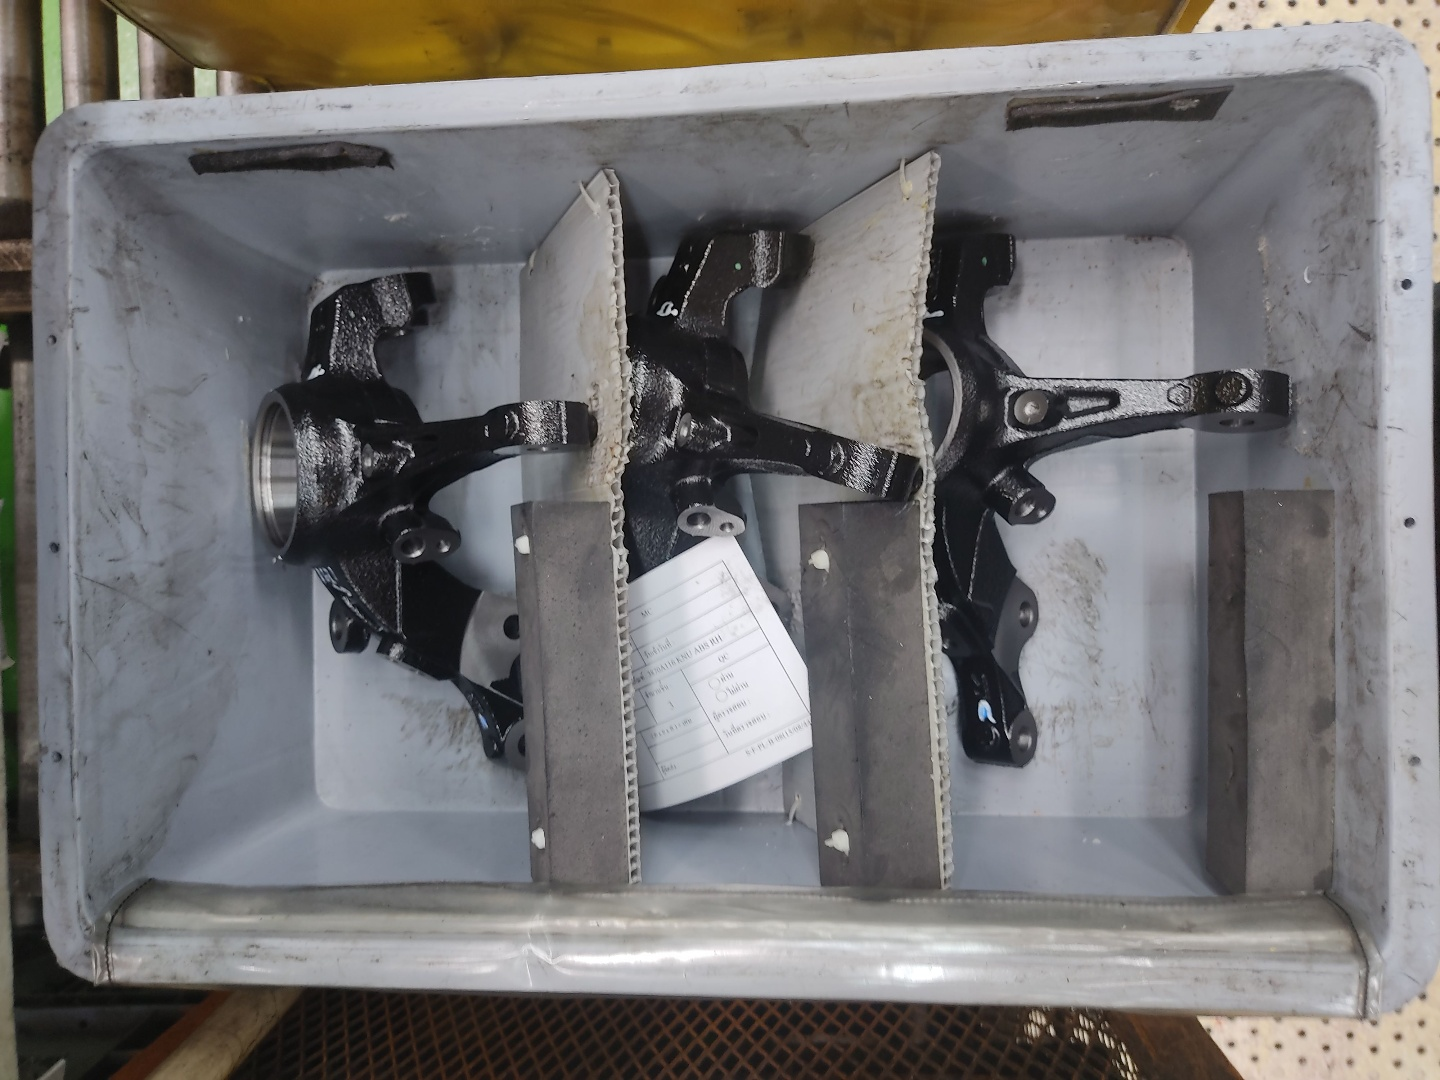abs-rh: (920, 209, 1296, 774), (240, 263, 611, 786), (618, 213, 926, 766)
